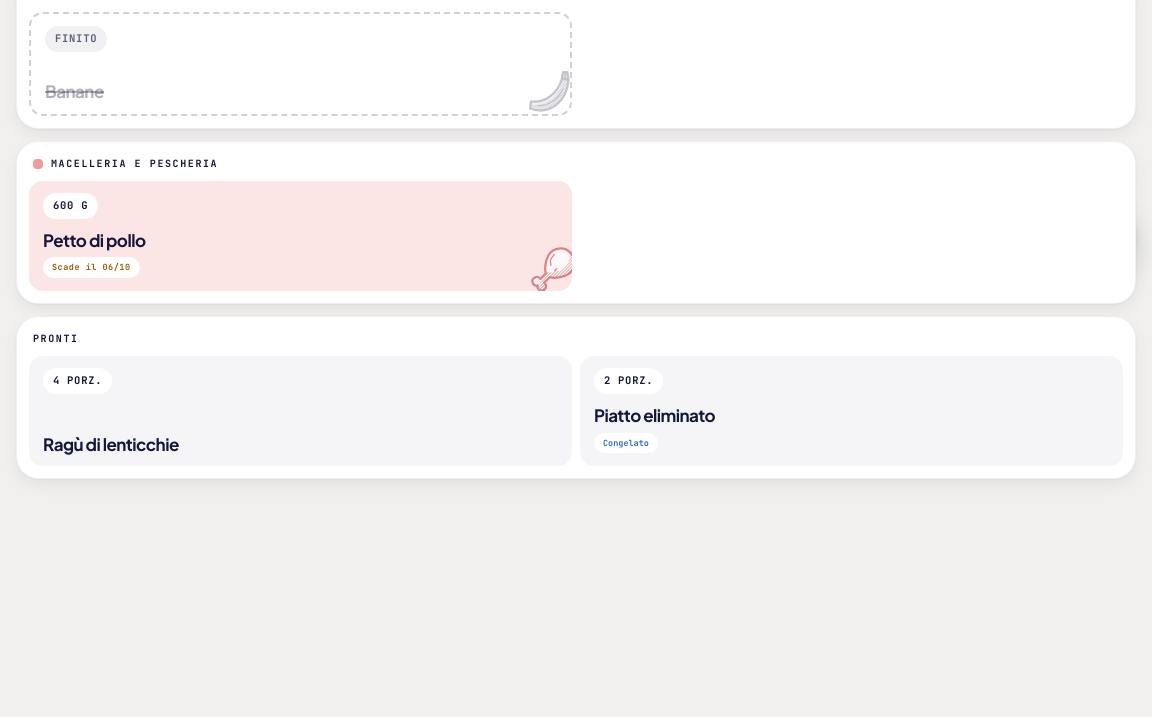
Test: Dispensa: il lotto › SALVA a 0 porzioni: il lotto esce dalla pagina e il foglio si chiude
The image size is (1152, 717).
(page scrolled)
Expected: the button with aria-label "Apri Petto di pollo" is shown, [29,181,572,291]
Click the button with aria-label "Apri il lotto di Ragù di lenticchie" at (78, 381), box [29,356,572,466]
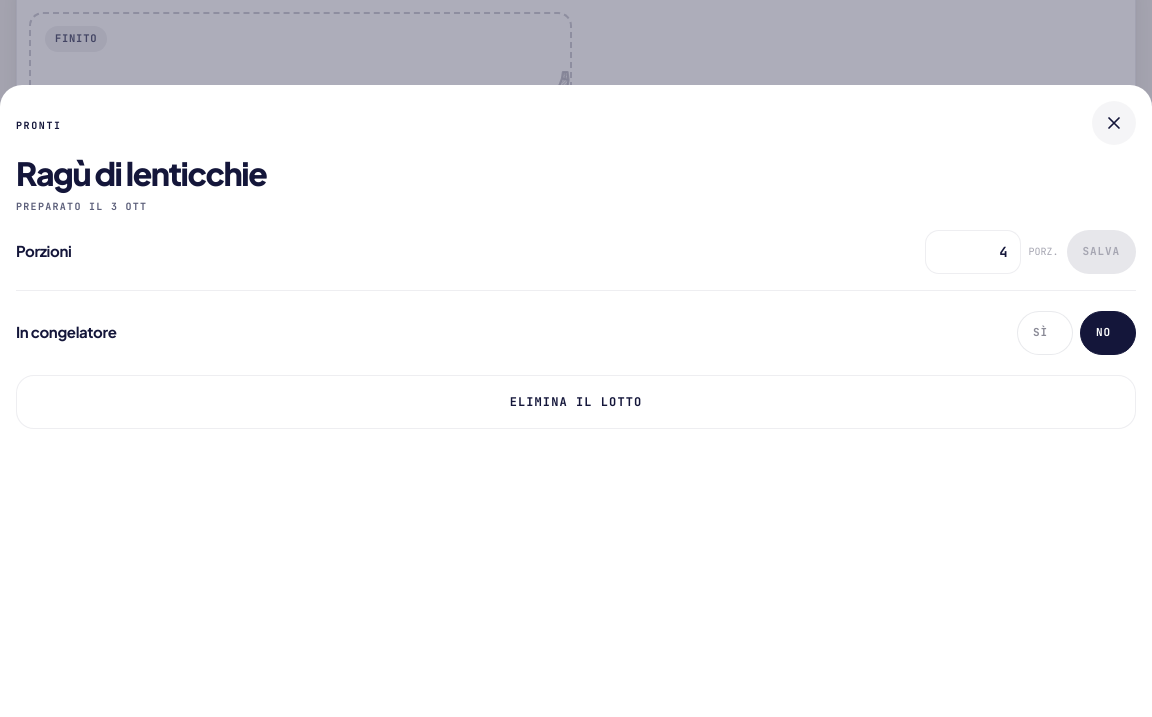
Replace the text in the field named "Porzioni di Ragù di lenticchie" with "0" at (973, 252), box [925,230,1021,274]
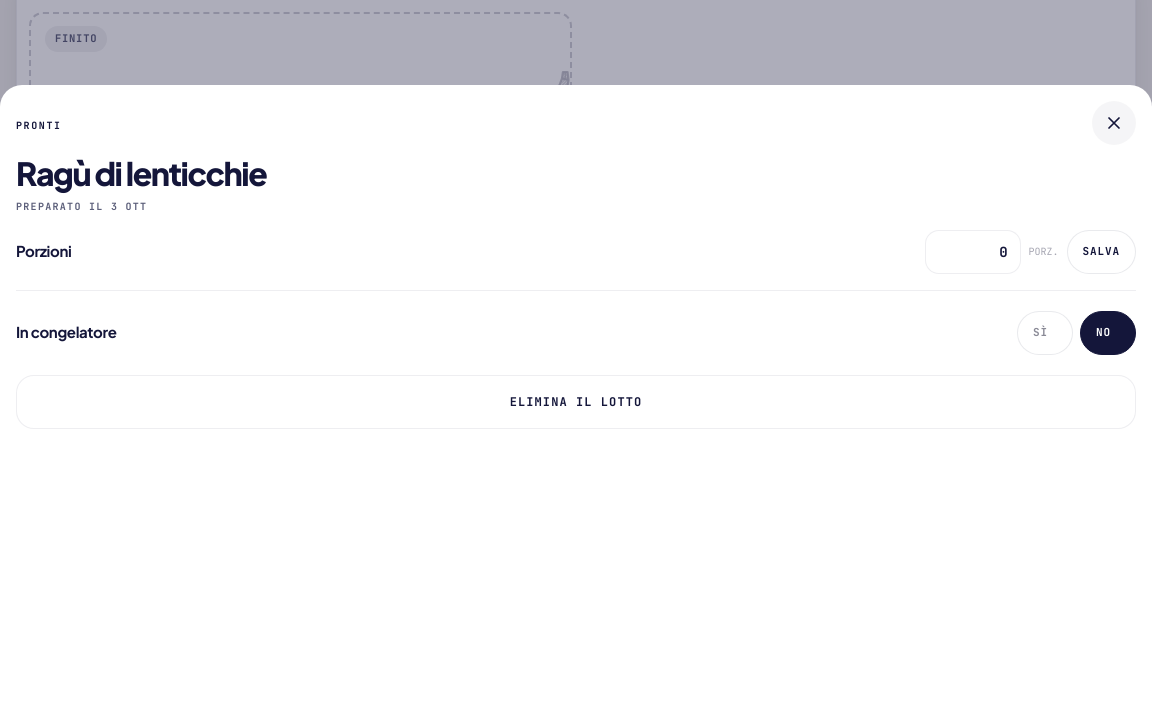
Click the button "SALVA" at (1101, 252), box [1067,230,1136,274]
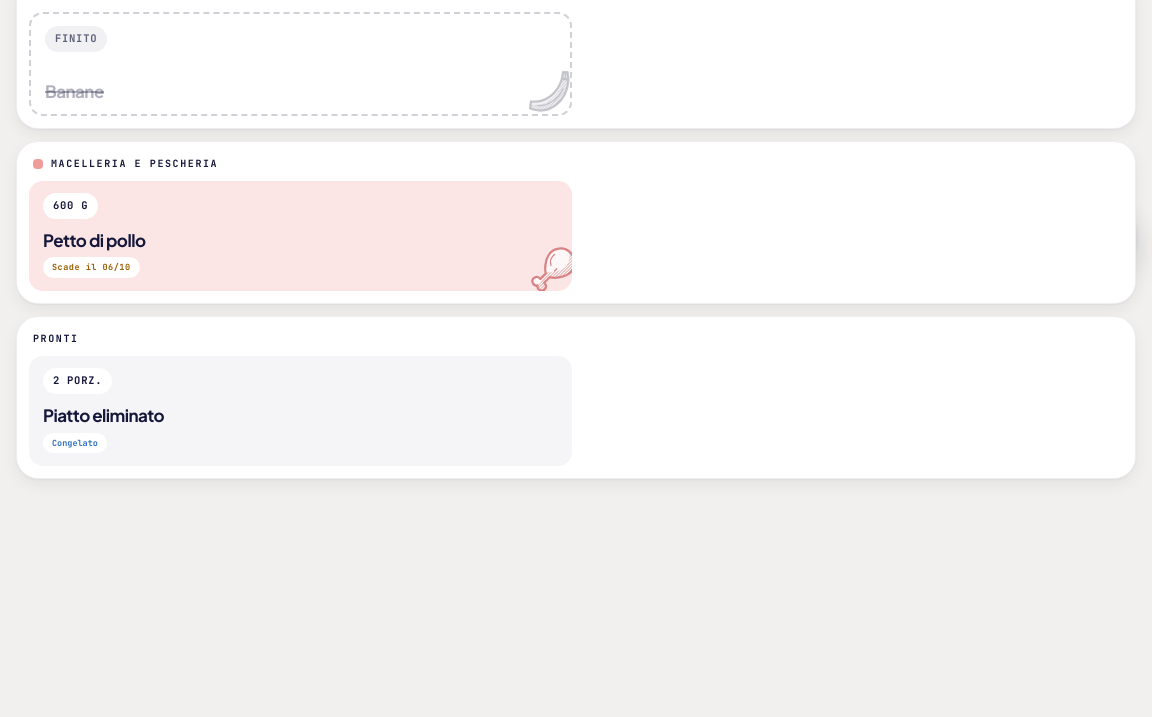
Expected: the dialog is gone
